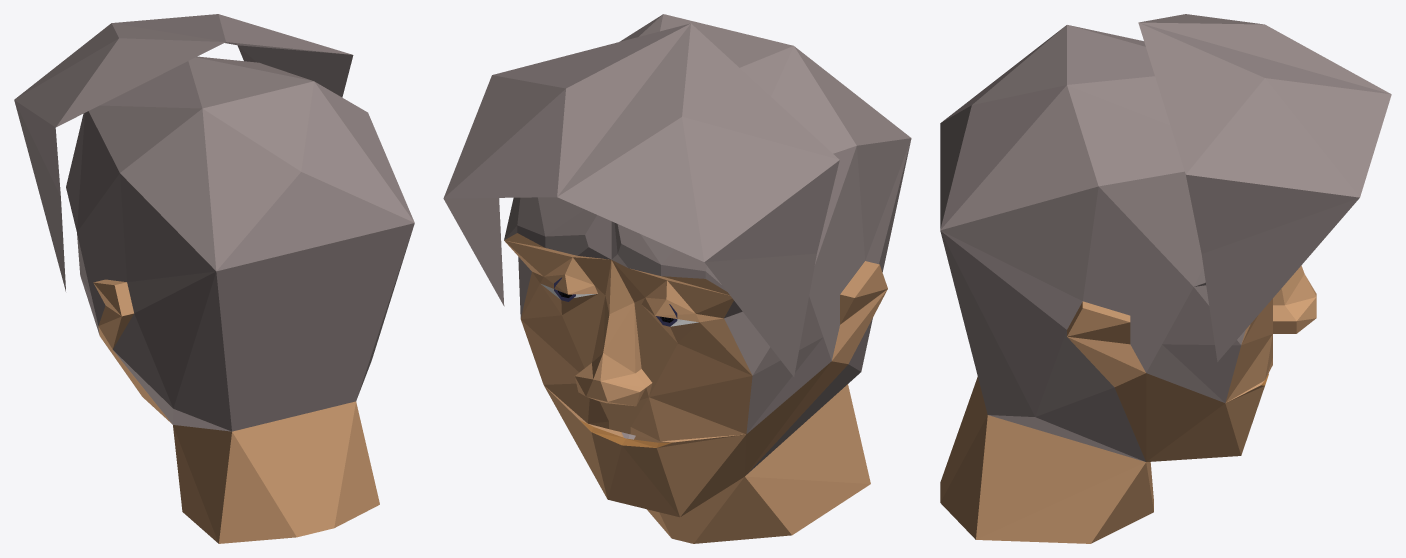
The model's file is npc_chat_sir_percival_0.obj.
3 views of the same model, side by side, from view 1: azimuth 30°, elevation 25°; view 2: azimuth 150°, elevation 25°; view 3: azimuth 270°, elevation 25° (orthographic). The views are drawn at different scales.
Bounding box in the file's own units: 0.75 × 1.05 × 0.8906.
